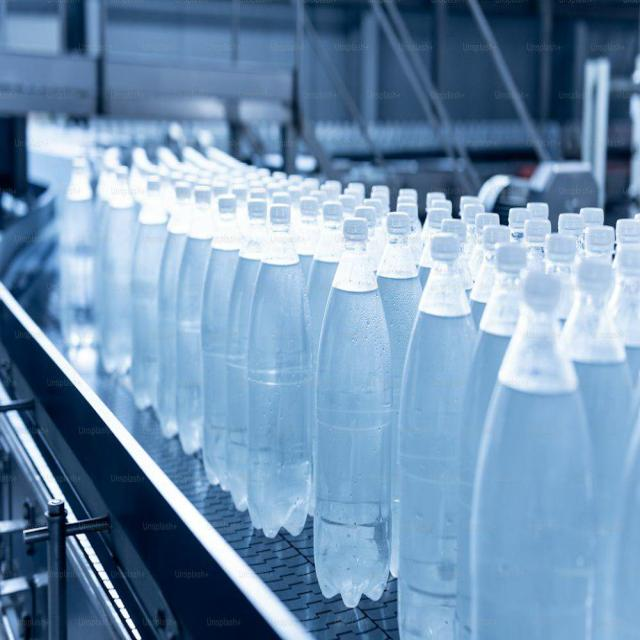plastic: (86, 130, 632, 612)
